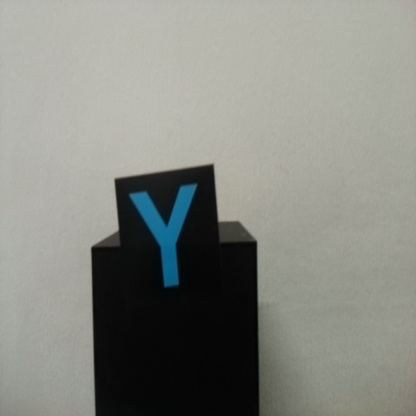id_14: (115, 180, 220, 296)
